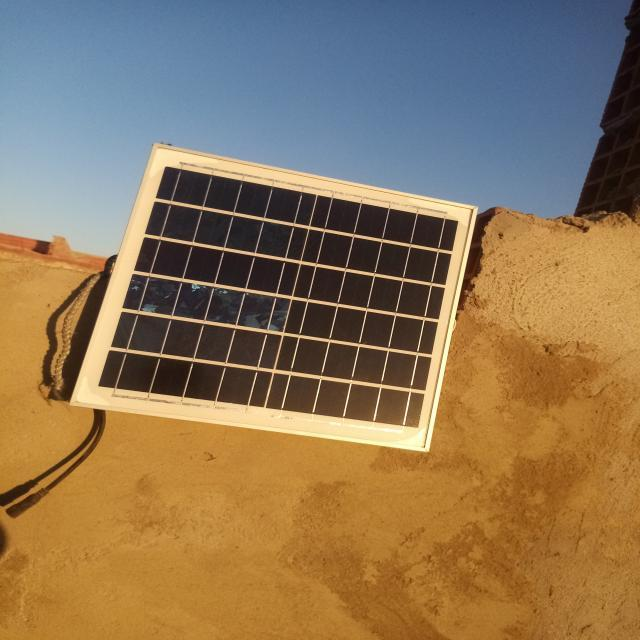no faulty: (74, 145, 476, 451)
